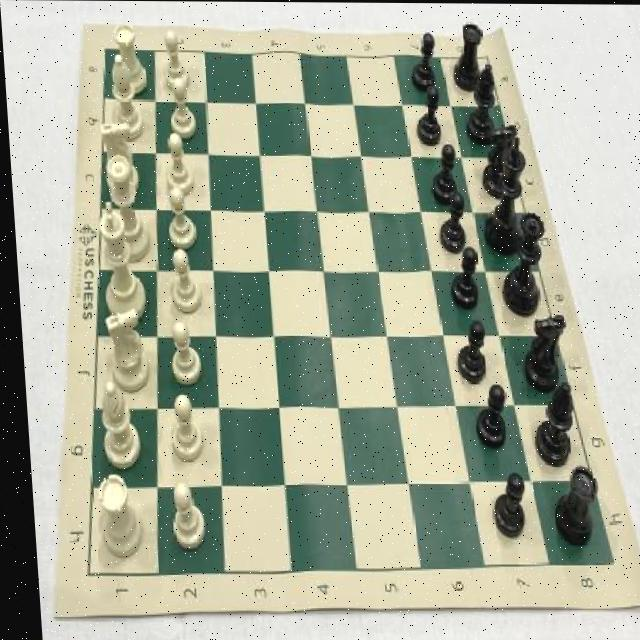bishop: (526, 380, 572, 464), (463, 60, 500, 146)
black-bishop: (476, 139, 530, 255)
black-king: (515, 312, 568, 389), (475, 121, 522, 199)
black-knight: (463, 379, 506, 451), (483, 470, 525, 542), (446, 316, 485, 382), (440, 245, 477, 310), (433, 192, 467, 255), (426, 141, 459, 205), (407, 28, 438, 93), (413, 86, 444, 147)
black-pawn: (494, 206, 548, 318)
black-queen: (542, 464, 595, 547), (448, 15, 486, 94)
black-rook: (91, 380, 139, 470), (105, 55, 144, 141)
white-bishop: (90, 199, 143, 324)
white-king: (98, 307, 145, 391), (96, 121, 141, 194)
white-knight: (157, 481, 202, 550), (159, 394, 198, 466), (161, 318, 198, 386), (162, 247, 199, 314), (162, 186, 198, 248), (164, 78, 196, 142), (158, 132, 190, 196), (157, 27, 188, 90)
white-pawn: (100, 155, 148, 264)
white-queen: (86, 473, 136, 560), (109, 19, 147, 96)
